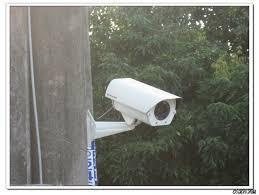Monitor: (94, 67, 185, 147)
